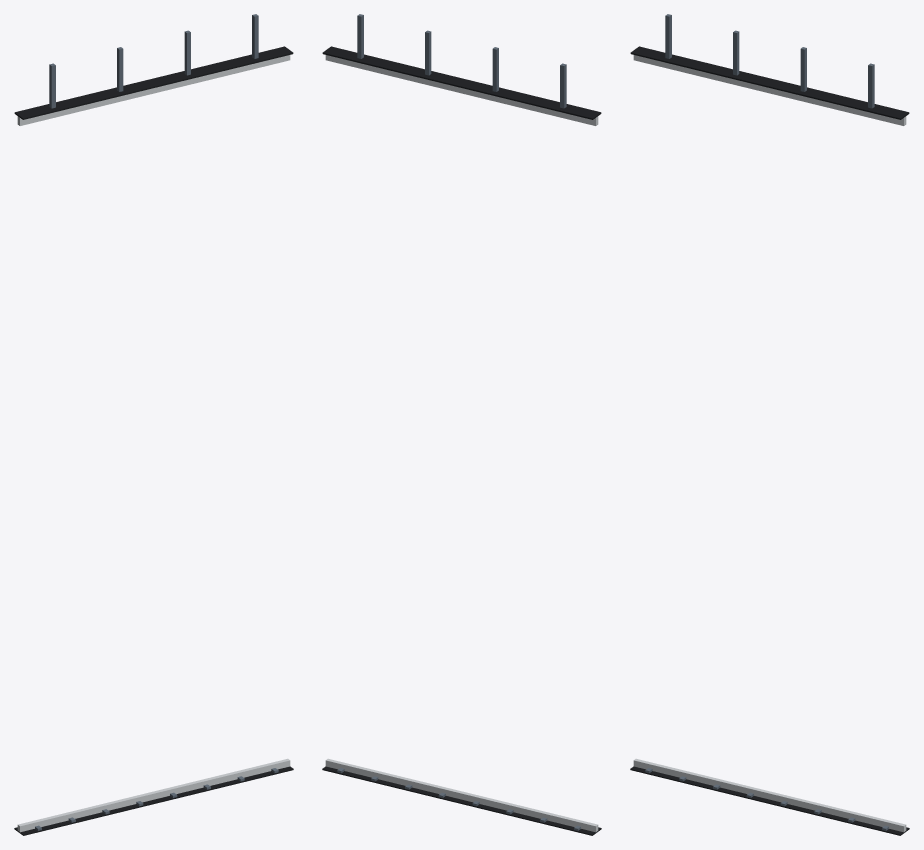
Rendered from asrs_rail_4m.glb.
3 views of the same model, side by side, from view 1: azimuth 30°, elevation 25°; view 2: azimuth 150°, elevation 25°; view 3: azimuth 330°, elevation 25° (orthographic).
Parts seen in each view (by area): view 1: Rail_Top_black_paint, Rail_Floor_steel_bright, Rail_Top_steel_bright, Rail_Floor_black_paint, Rail_Top_alu_dark; view 2: Rail_Top_black_paint, Rail_Floor_steel_bright, Rail_Top_steel_bright, Rail_Floor_black_paint, Rail_Top_alu_dark; view 3: Rail_Top_black_paint, Rail_Floor_steel_bright, Rail_Top_steel_bright, Rail_Floor_black_paint, Rail_Top_alu_dark.
Boxes of the visible parts, box(x1,y1,x2,y2) form: Rail_Top_black_paint: box(14, 46, 293, 119); Rail_Floor_steel_bright: box(17, 758, 290, 832); Rail_Top_steel_bright: box(17, 55, 290, 125); Rail_Floor_black_paint: box(14, 766, 293, 835); Rail_Top_alu_dark: box(49, 14, 258, 108); Rail_Top_black_paint: box(322, 46, 601, 119); Rail_Floor_steel_bright: box(325, 758, 598, 832); Rail_Top_steel_bright: box(325, 55, 598, 125); Rail_Floor_black_paint: box(322, 766, 601, 835); Rail_Top_alu_dark: box(357, 14, 566, 108); Rail_Top_black_paint: box(630, 46, 909, 119); Rail_Floor_steel_bright: box(633, 758, 906, 832); Rail_Top_steel_bright: box(633, 55, 906, 125); Rail_Floor_black_paint: box(630, 766, 909, 835); Rail_Top_alu_dark: box(665, 14, 874, 108).
Size of the model in its own units: 4 by 10.74 by 0.24.
